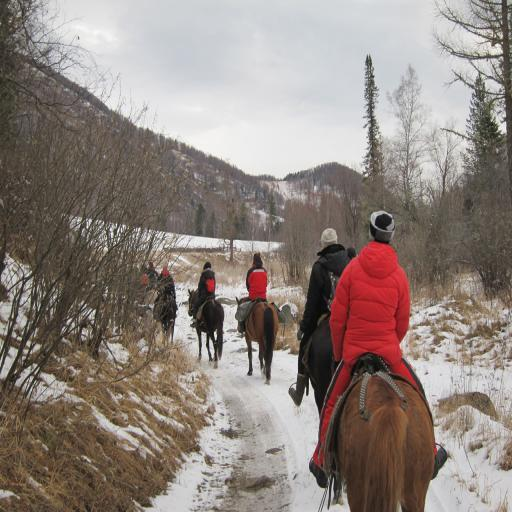Horse: (335, 370, 436, 511), (302, 313, 348, 507), (234, 297, 278, 384), (187, 290, 226, 369), (154, 288, 177, 346)
